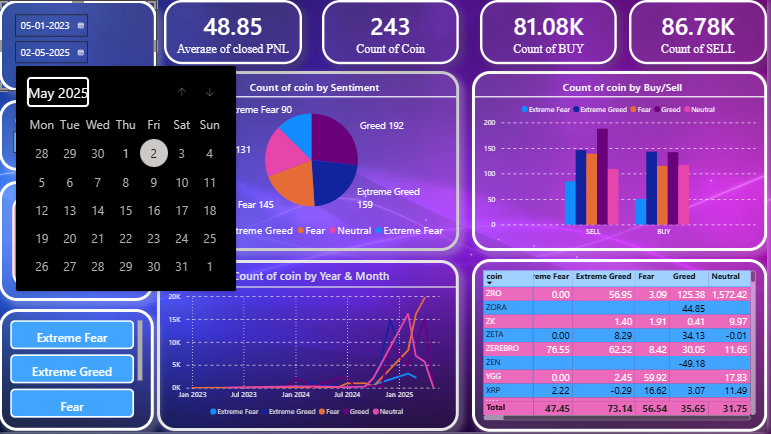

The page's visual inventory and layout, read from the dashboard file:
{"tool":"powerbi","page":{"name":"Page 1","canvas":[1280,720],"ordinal":0},"visuals":[{"type":"pieChart","fields":{"Category":["clean_trader_sentiment (1).classification"],"Y":["Count(clean_trader_sentiment (1).coin)"]},"box":[275,118.3,491.7,300],"z":3},{"type":"lineChart","fields":{"Series":["clean_trader_sentiment (1).classification"],"Y":["CountNonNull(clean_trader_sentiment (1).coin)"],"Category":["clean_trader_sentiment (1).date.Variation.Date Hierarchy.Year","clean_trader_sentiment (1).date.Variation.Date Hierarchy.Month"]},"box":[263.3,433.3,503.3,285],"z":5},{"type":"clusteredColumnChart","fields":{"Category":["clean_trader_sentiment (1).side"],"Series":["clean_trader_sentiment (1).classification"],"Y":["Count(clean_trader_sentiment (1).coin)"]},"box":[788.3,118.3,491.7,300],"z":6},{"type":"pivotTable","fields":{"Rows":["clean_trader_sentiment (1).coin"],"Columns":["clean_trader_sentiment (1).classification"],"Values":["Avg(clean_trader_sentiment (1).closed pnl)"]},"box":[788.3,431.7,491.7,288.3],"z":7},{"type":"slicer","fields":{"Values":["clean_trader_sentiment (1).date"]},"box":[0,0,263.3,151.7],"z":8},{"type":"slicer","fields":{"Values":["clean_trader_sentiment (1).coin"]},"box":[0,166.7,263.3,118.3],"z":9},{"type":"advancedSlicerVisual","fields":{"Values":["clean_trader_sentiment (1).side"]},"box":[0,301.7,258.3,200],"z":10},{"type":"advancedSlicerVisual","fields":{"Values":["clean_trader_sentiment (1).classification"]},"box":[0,515,258.3,203.3],"z":11},{"type":"card","title":"yum","fields":{"Values":["Avg(clean_trader_sentiment (1).closed pnl)"]},"box":[275,0,230,106.7],"z":12},{"type":"card","title":"yum","fields":{"Values":["Count(clean_trader_sentiment (1).coin)"]},"box":[538.3,0,228.3,106.7],"z":13},{"type":"card","title":"yum","fields":{"Values":["CountNonNull(clean_trader_sentiment (1).side)"]},"box":[801.7,0,228.3,106.7],"z":14},{"type":"card","title":"yum","fields":{"Values":["CountNonNull(clean_trader_sentiment (1).side)"]},"box":[1050,0,230,106.7],"z":15}]}

Visuals, with their boxes in screenshot pixels (x1, y1, x2, y2), scaled from the page's 1280x720 canvas onto the 771x434 screenshot:
pieChart - clean_trader_sentiment (1).classification x Count(clean_trader_sentiment (1).coin): [166,71,462,252]
lineChart - clean_trader_sentiment (1).classification x CountNonNull(clean_trader_sentiment (1).coin): [159,261,462,433]
clusteredColumnChart - clean_trader_sentiment (1).side x clean_trader_sentiment (1).classification: [475,71,770,252]
pivotTable - clean_trader_sentiment (1).coin x clean_trader_sentiment (1).classification: [475,260,770,433]
slicer - clean_trader_sentiment (1).date: [0,0,159,91]
slicer - clean_trader_sentiment (1).coin: [0,100,159,172]
advancedSlicerVisual - clean_trader_sentiment (1).side: [0,182,156,302]
advancedSlicerVisual - clean_trader_sentiment (1).classification: [0,310,156,433]
"yum" card: [166,0,304,64]
"yum" card: [324,0,462,64]
"yum" card: [483,0,620,64]
"yum" card: [632,0,770,64]
